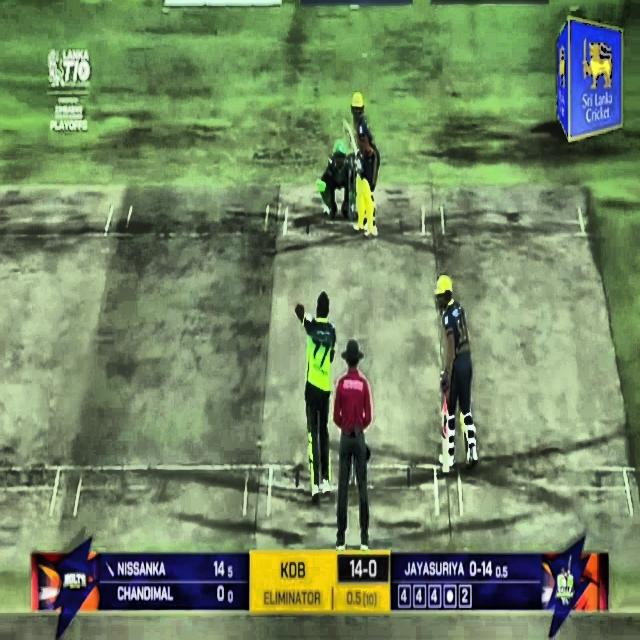Left-stump: (348, 162, 351, 220)
Middle-stump: (353, 160, 356, 219)
